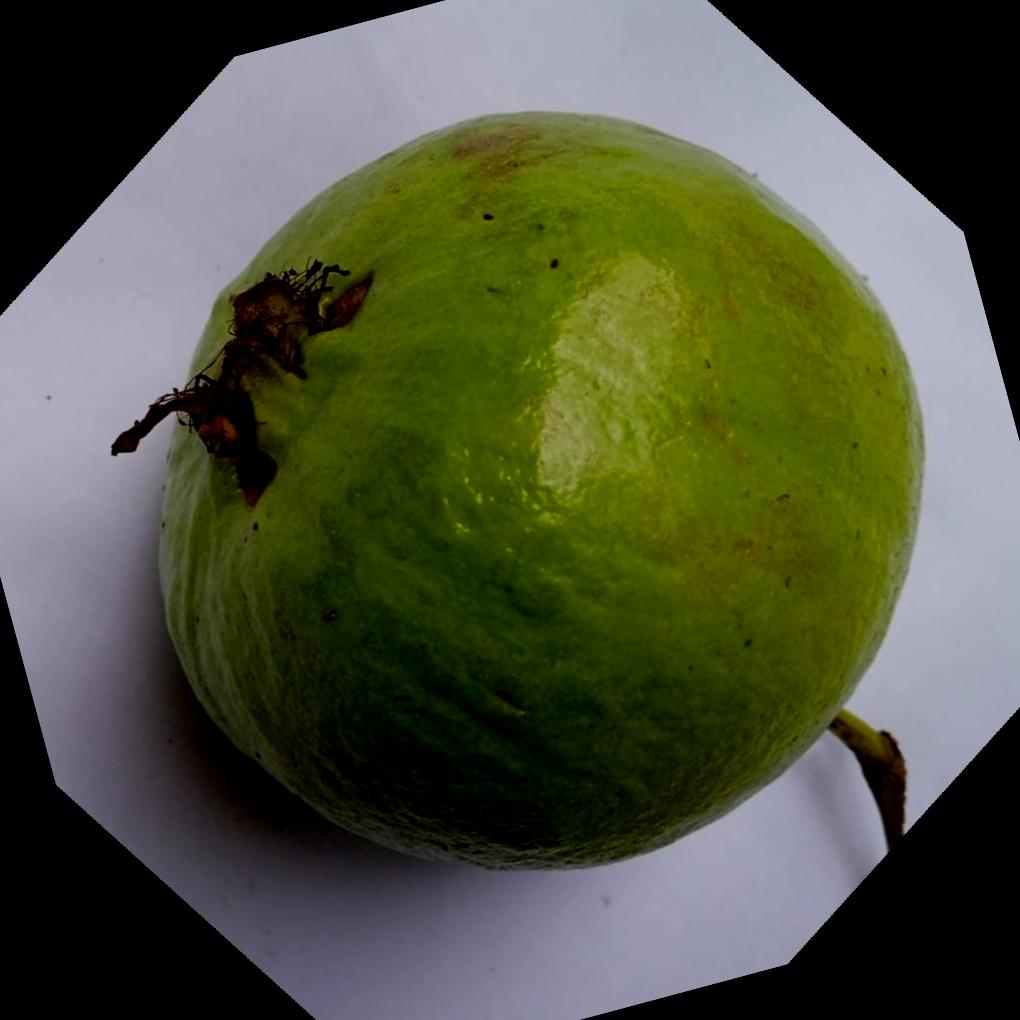FreshGuava: (111, 110, 927, 877)
